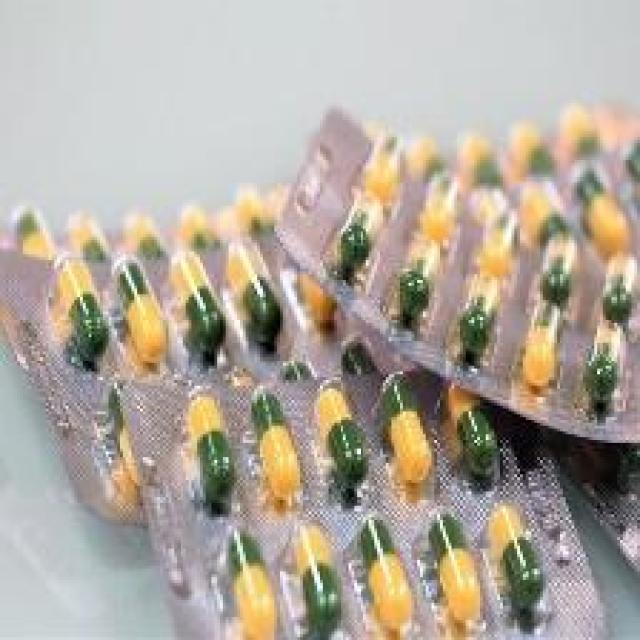Medicine: (0, 84, 640, 629)
